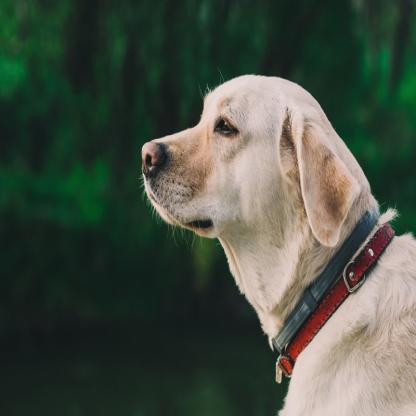Labarador Retriever: (139, 74, 416, 416)
